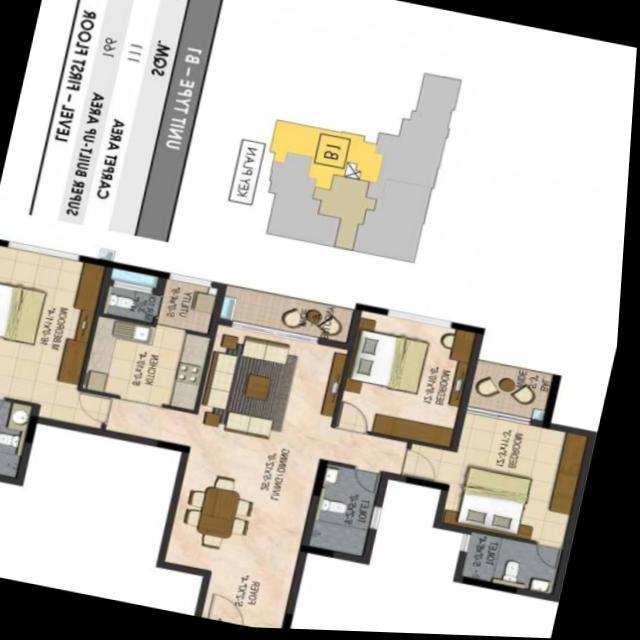Balcony-Sitout: (219, 286, 365, 350), (469, 355, 572, 426)
Bedroom: (336, 308, 486, 450)
Bedroom with Toilet: (445, 408, 601, 603), (0, 242, 119, 490)
Dining: (180, 466, 269, 564)
Enterance-Foyer: (209, 577, 267, 629)
Kitchen: (84, 314, 217, 413)
Living: (195, 320, 355, 472)
Toilet: (307, 460, 397, 566), (461, 527, 579, 604), (0, 400, 46, 488)
Utility: (156, 274, 232, 341), (99, 263, 174, 330)
